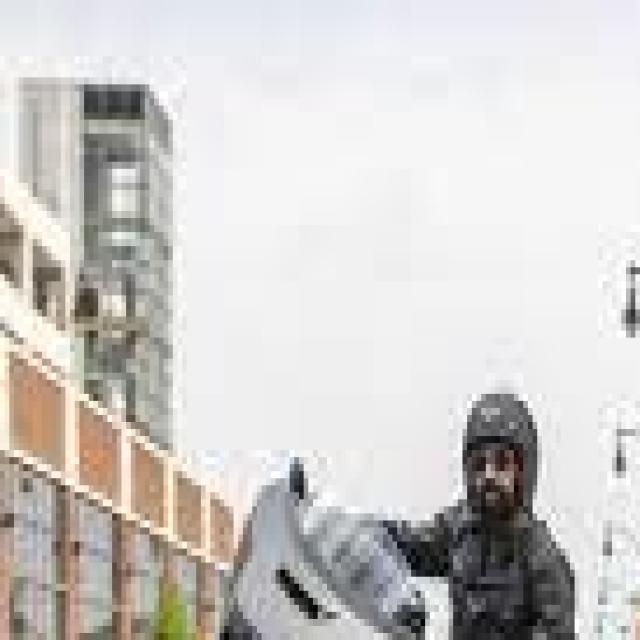bike: (51, 464, 556, 640), (472, 436, 640, 640)
